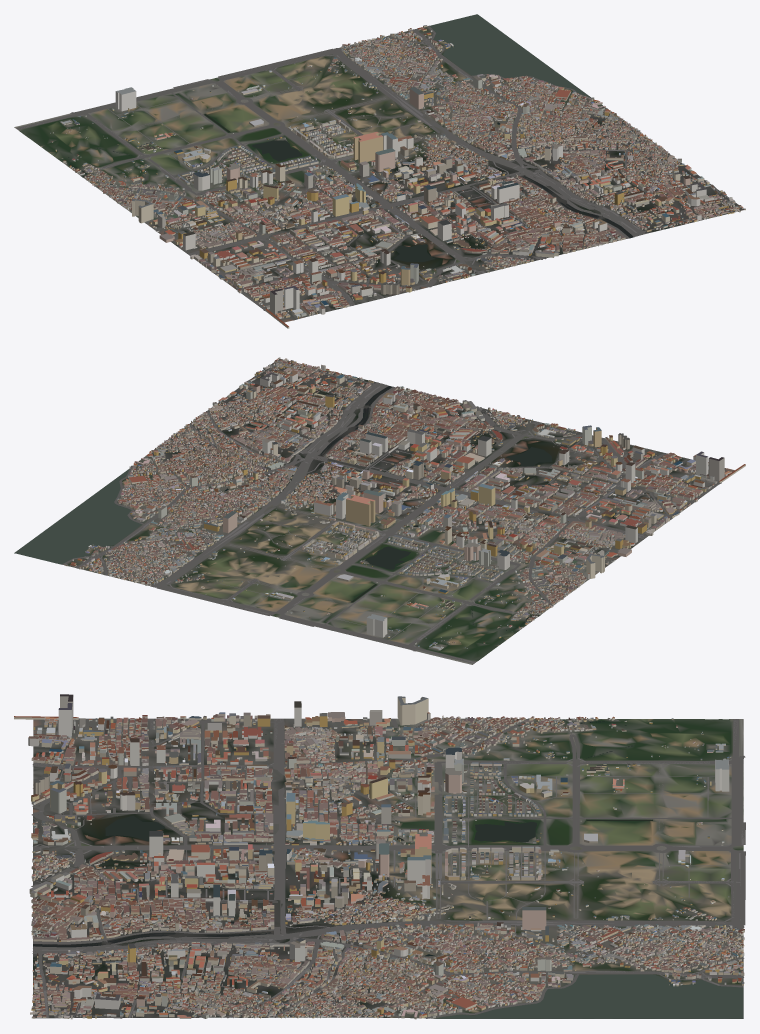
3 views of the same model, one above another, from view 1: azimuth 30°, elevation 25°; view 2: azimuth 150°, elevation 25°; view 3: azimuth 270°, elevation 25° (orthographic). The views are drawn at different scales.
Parts seen in each view (by area): view 1: buildings, ground, roads, water; view 2: buildings, ground, roads, water; view 3: buildings, ground, roads, water.
Part boxes in pixels (x1,y1,x2,y2): buildings: (40,25,745,328); ground: (14,27,744,322); roads: (16,26,736,313); water: (68,14,633,263); buildings: (64,357,745,650); ground: (14,359,734,664); roads: (62,362,721,663); water: (14,386,662,630); buildings: (14,694,744,1019); ground: (33,718,743,1018); roads: (31,718,745,1018); water: (33,719,743,1018).
Bounding box in the file's own units: 2840 × 129 × 2889.
